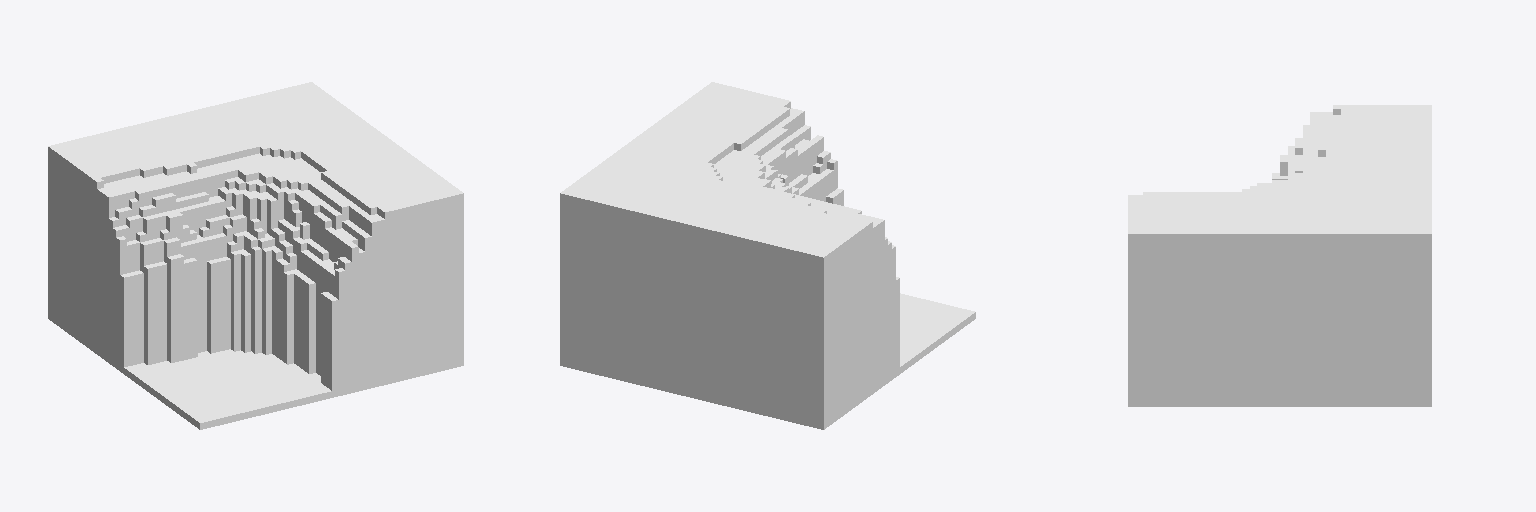
Rendered from tile-cornermountain-4.obj.
The picture shows the model from 3 angles: view 1: azimuth 30°, elevation 25°; view 2: azimuth 150°, elevation 25°; view 3: azimuth 270°, elevation 25°; orthographic projection.
Visible parts, largest first — view 1: tile-cornermountain-4; view 2: tile-cornermountain-4; view 3: tile-cornermountain-4.
Part boxes in pixels (bbox=[...]): tile-cornermountain-4: bbox=[48, 82, 463, 429]; tile-cornermountain-4: bbox=[560, 82, 975, 429]; tile-cornermountain-4: bbox=[1128, 105, 1431, 406].
Bounding box in the file's own units: 40 × 25 × 40.